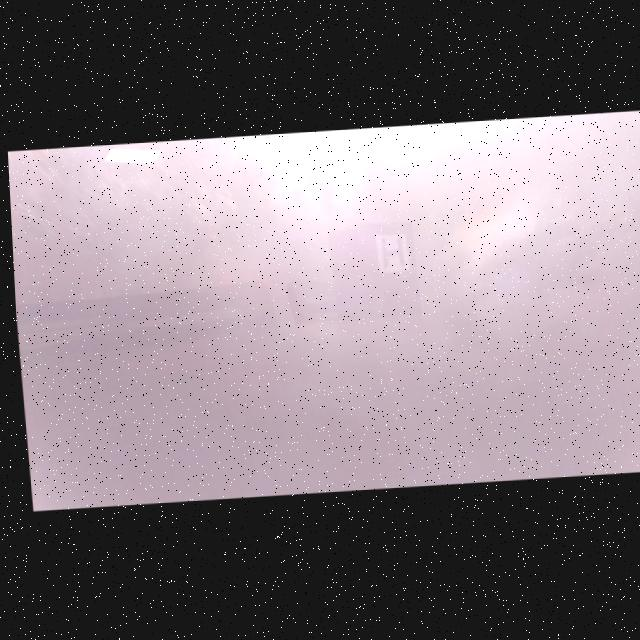H: (378, 239, 401, 270)
